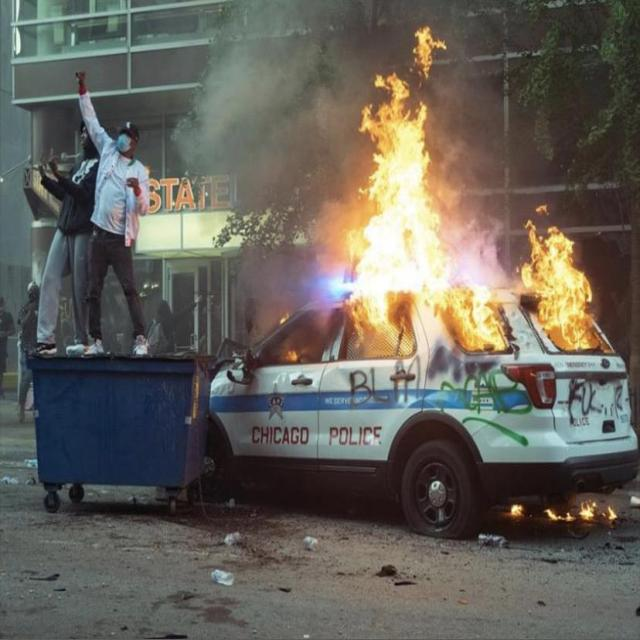fire: (522, 222, 614, 354), (345, 191, 450, 293), (359, 74, 431, 191), (420, 285, 510, 355), (343, 293, 417, 360), (413, 26, 446, 89)
